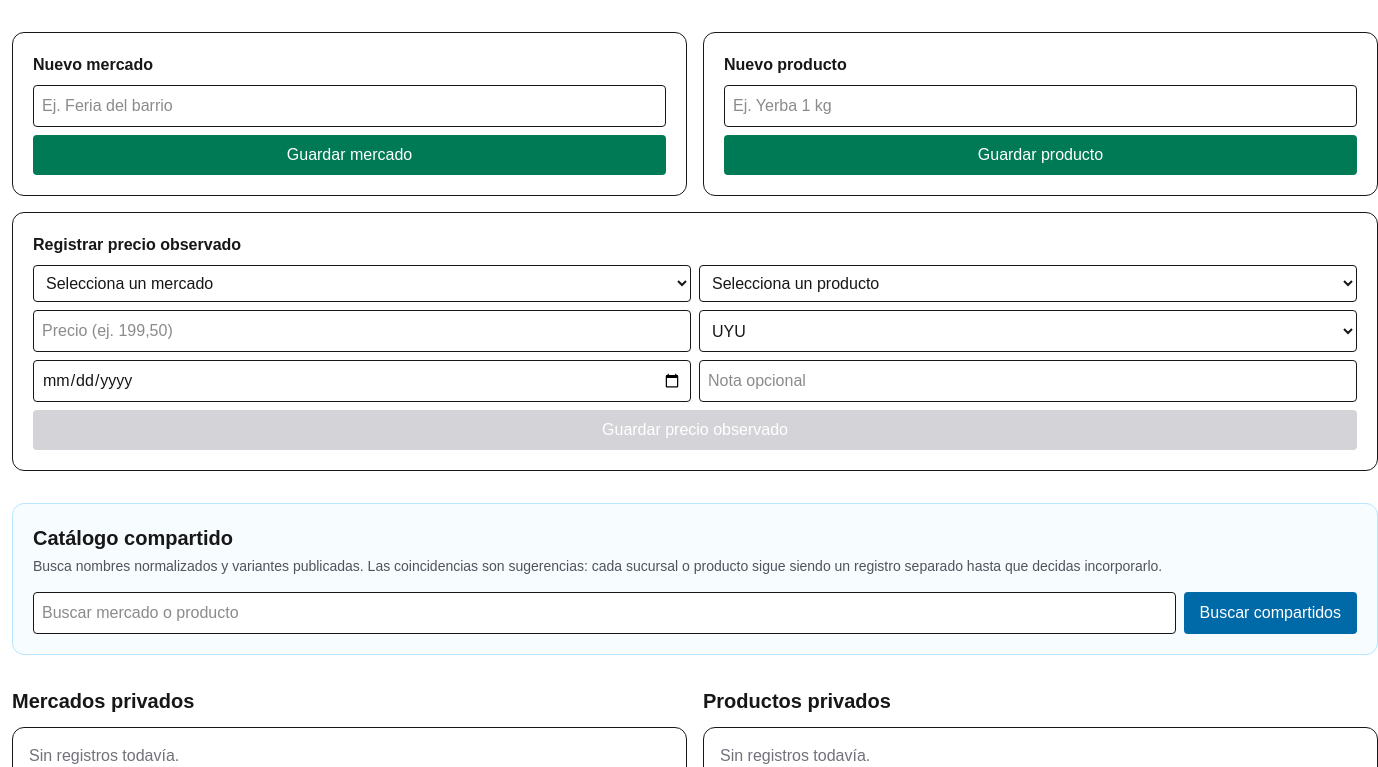
Test case: GroceryCatalogManager › retains the submitted form element across an async private-market request
Step 1. Type "Mercado sintético" into the field with placeholder "Ej. Feria del barrio" → (350, 106), box top-left (33, 85), bottom-right (666, 127)
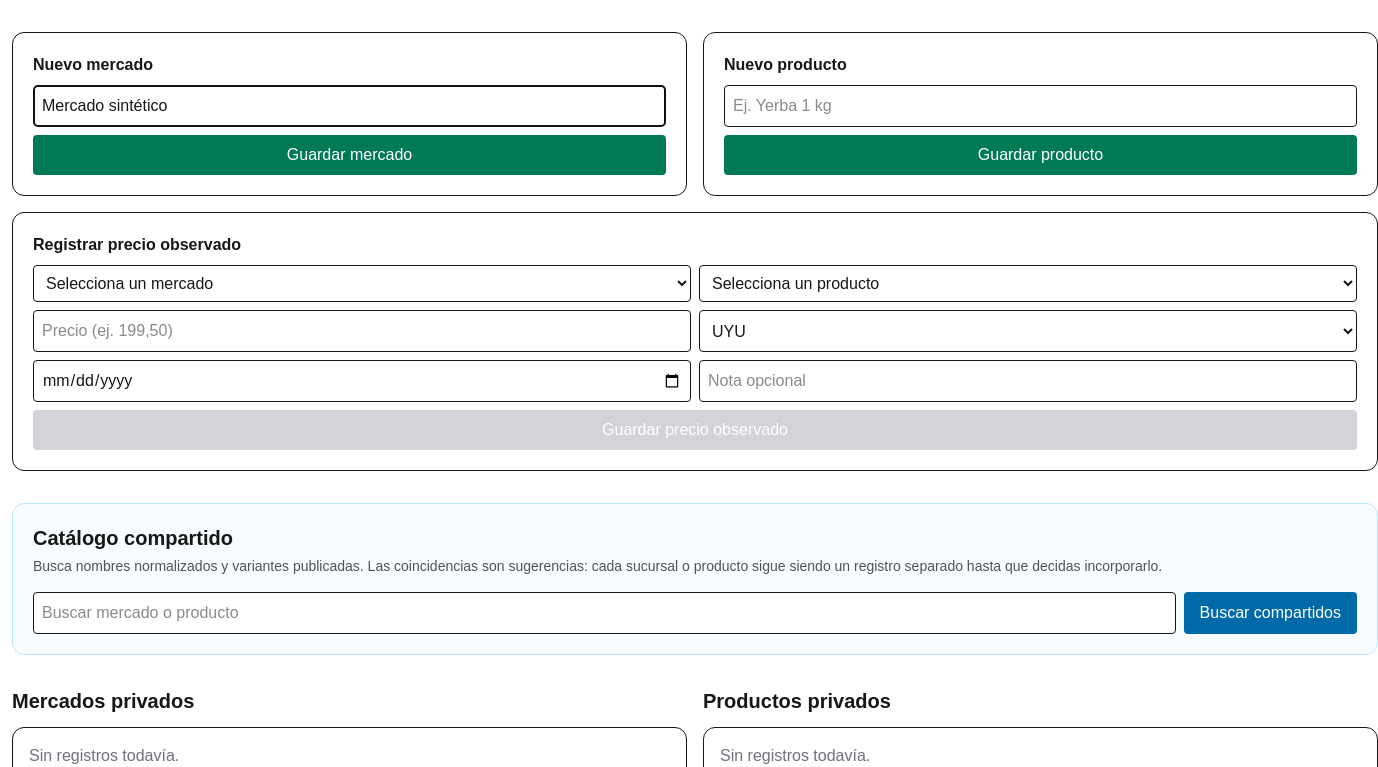
Step 2. Click the button "Guardar mercado" → (350, 155), box top-left (33, 135), bottom-right (666, 175)
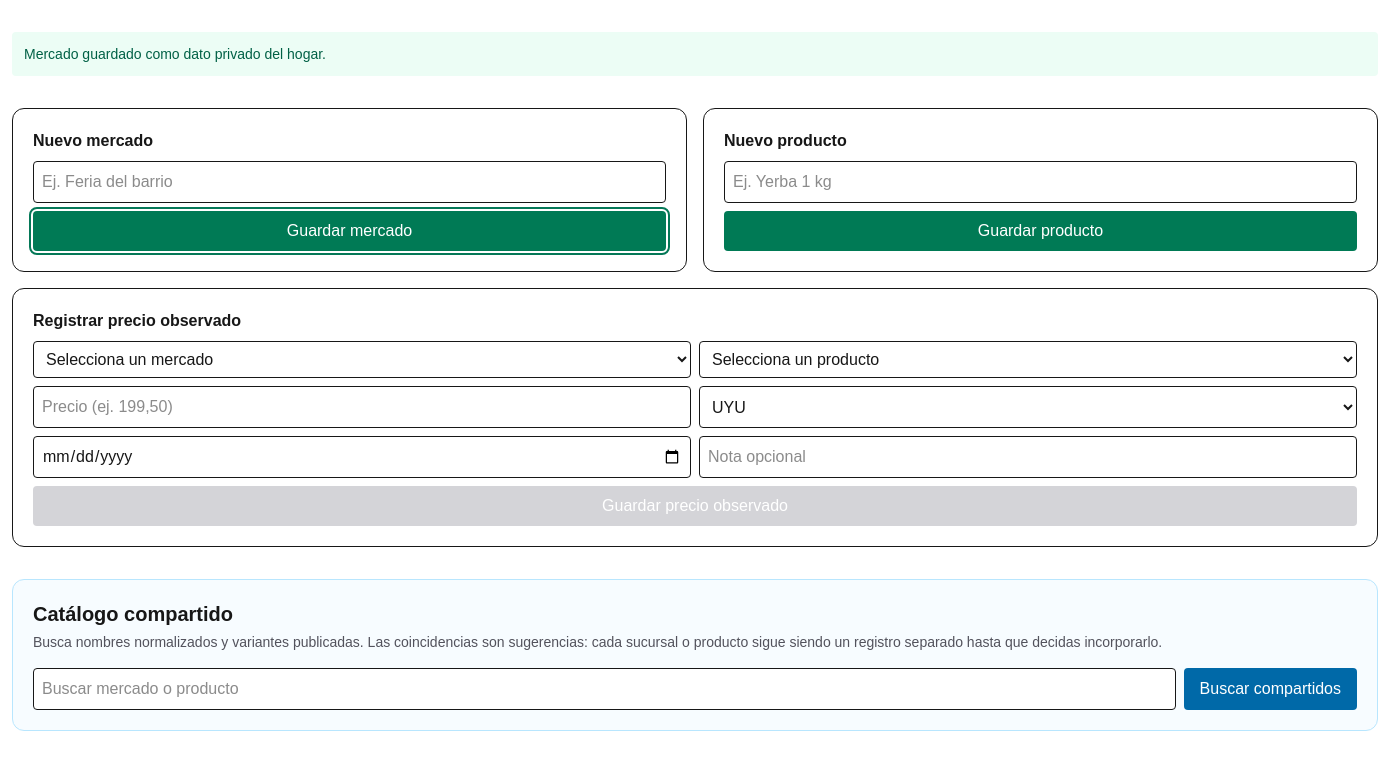
Result: the text "Mercado guardado como dato privado del hogar." is shown at top-left (12, 32), bottom-right (1377, 76)
